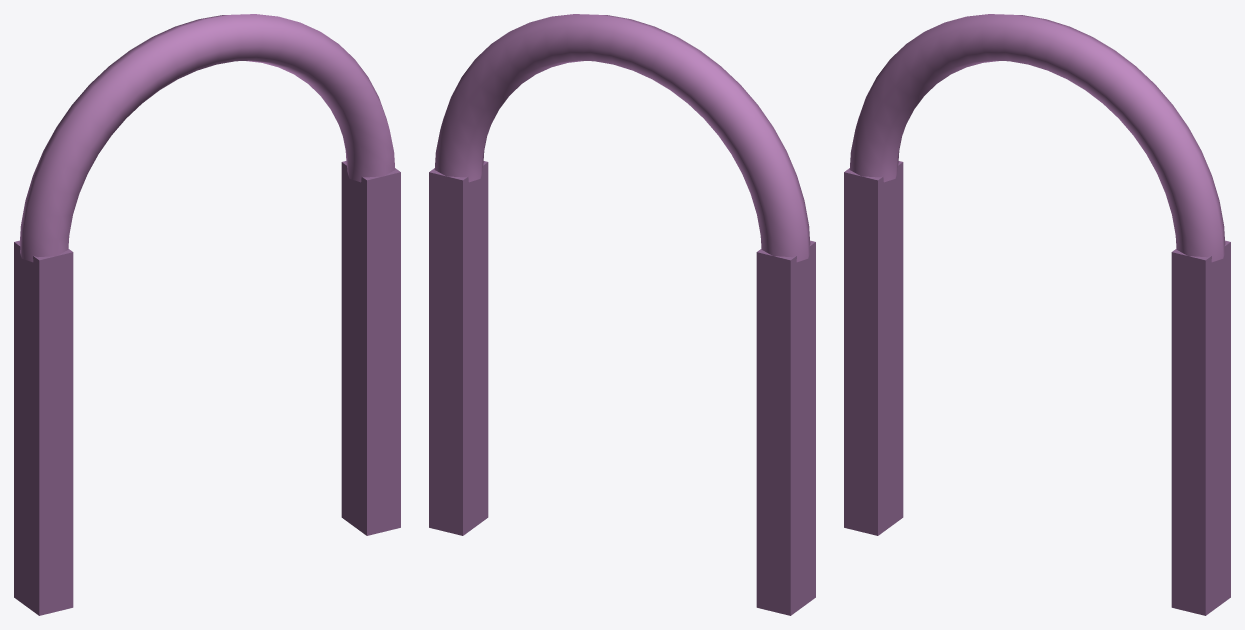
The model's file is garden_arch.glb.
The picture shows the model from 3 angles, left to right: view 1: azimuth 30°, elevation 25°; view 2: azimuth 150°, elevation 25°; view 3: azimuth 330°, elevation 25°; orthographic projection.
Parts seen in each view (by area): view 1: arch, pillar_-135, pillar_135; view 2: arch, pillar_-135, pillar_135; view 3: arch, pillar_135, pillar_-135.
Part boxes in pixels (left/top/right/bottom): arch: left=19, top=14, right=395, bottom=262; pillar_-135: left=14, top=240, right=73, bottom=615; pillar_135: left=341, top=161, right=400, bottom=535; arch: left=434, top=14, right=810, bottom=262; pillar_-135: left=756, top=240, right=815, bottom=615; pillar_135: left=429, top=161, right=488, bottom=535; arch: left=849, top=14, right=1225, bottom=262; pillar_135: left=1171, top=240, right=1230, bottom=615; pillar_-135: left=844, top=161, right=903, bottom=535.
Size of what is drawn, in the model's own units: 3.06 by 4.28 by 0.36.
